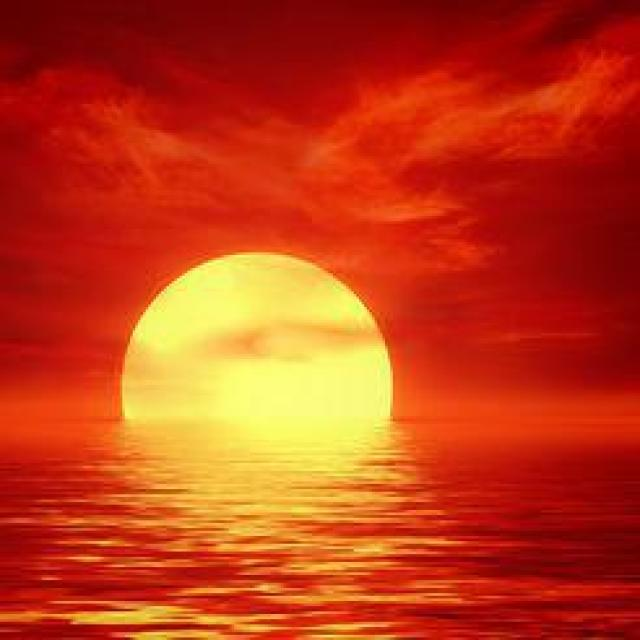other: (104, 226, 423, 523)
